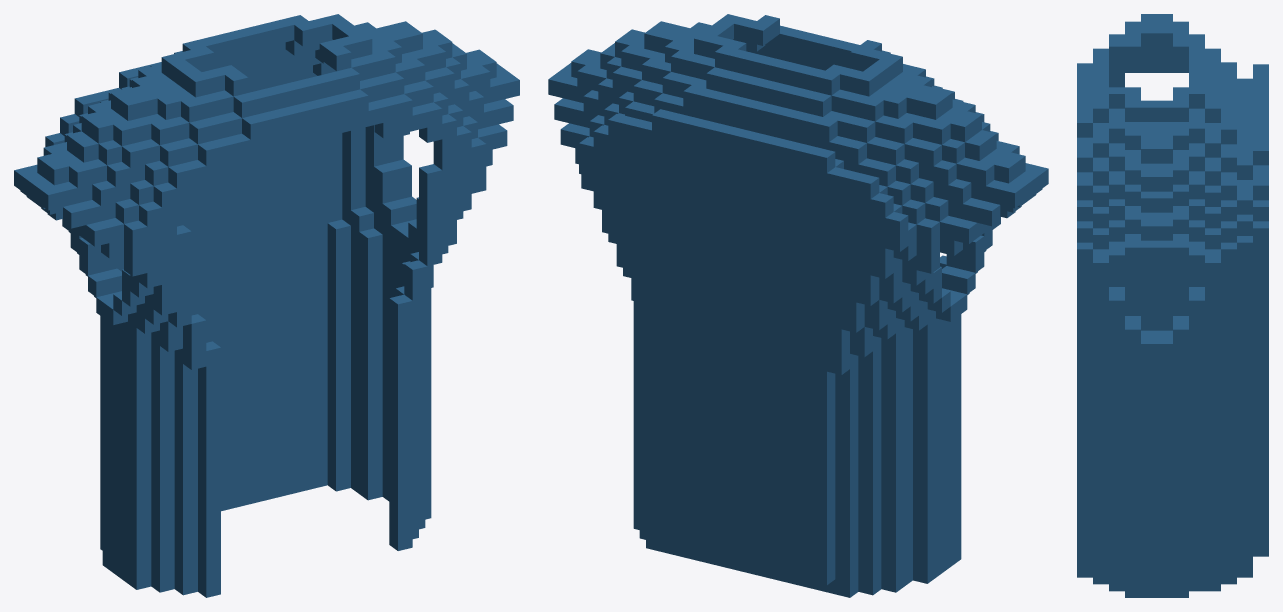
3 views of the same model, side by side, from view 1: azimuth 30°, elevation 25°; view 2: azimuth 150°, elevation 25°; view 3: azimuth 270°, elevation 25° (orthographic). The views are drawn at different scales.
Size of the model in its own units: 1.6 by 1.6 by 0.6.
